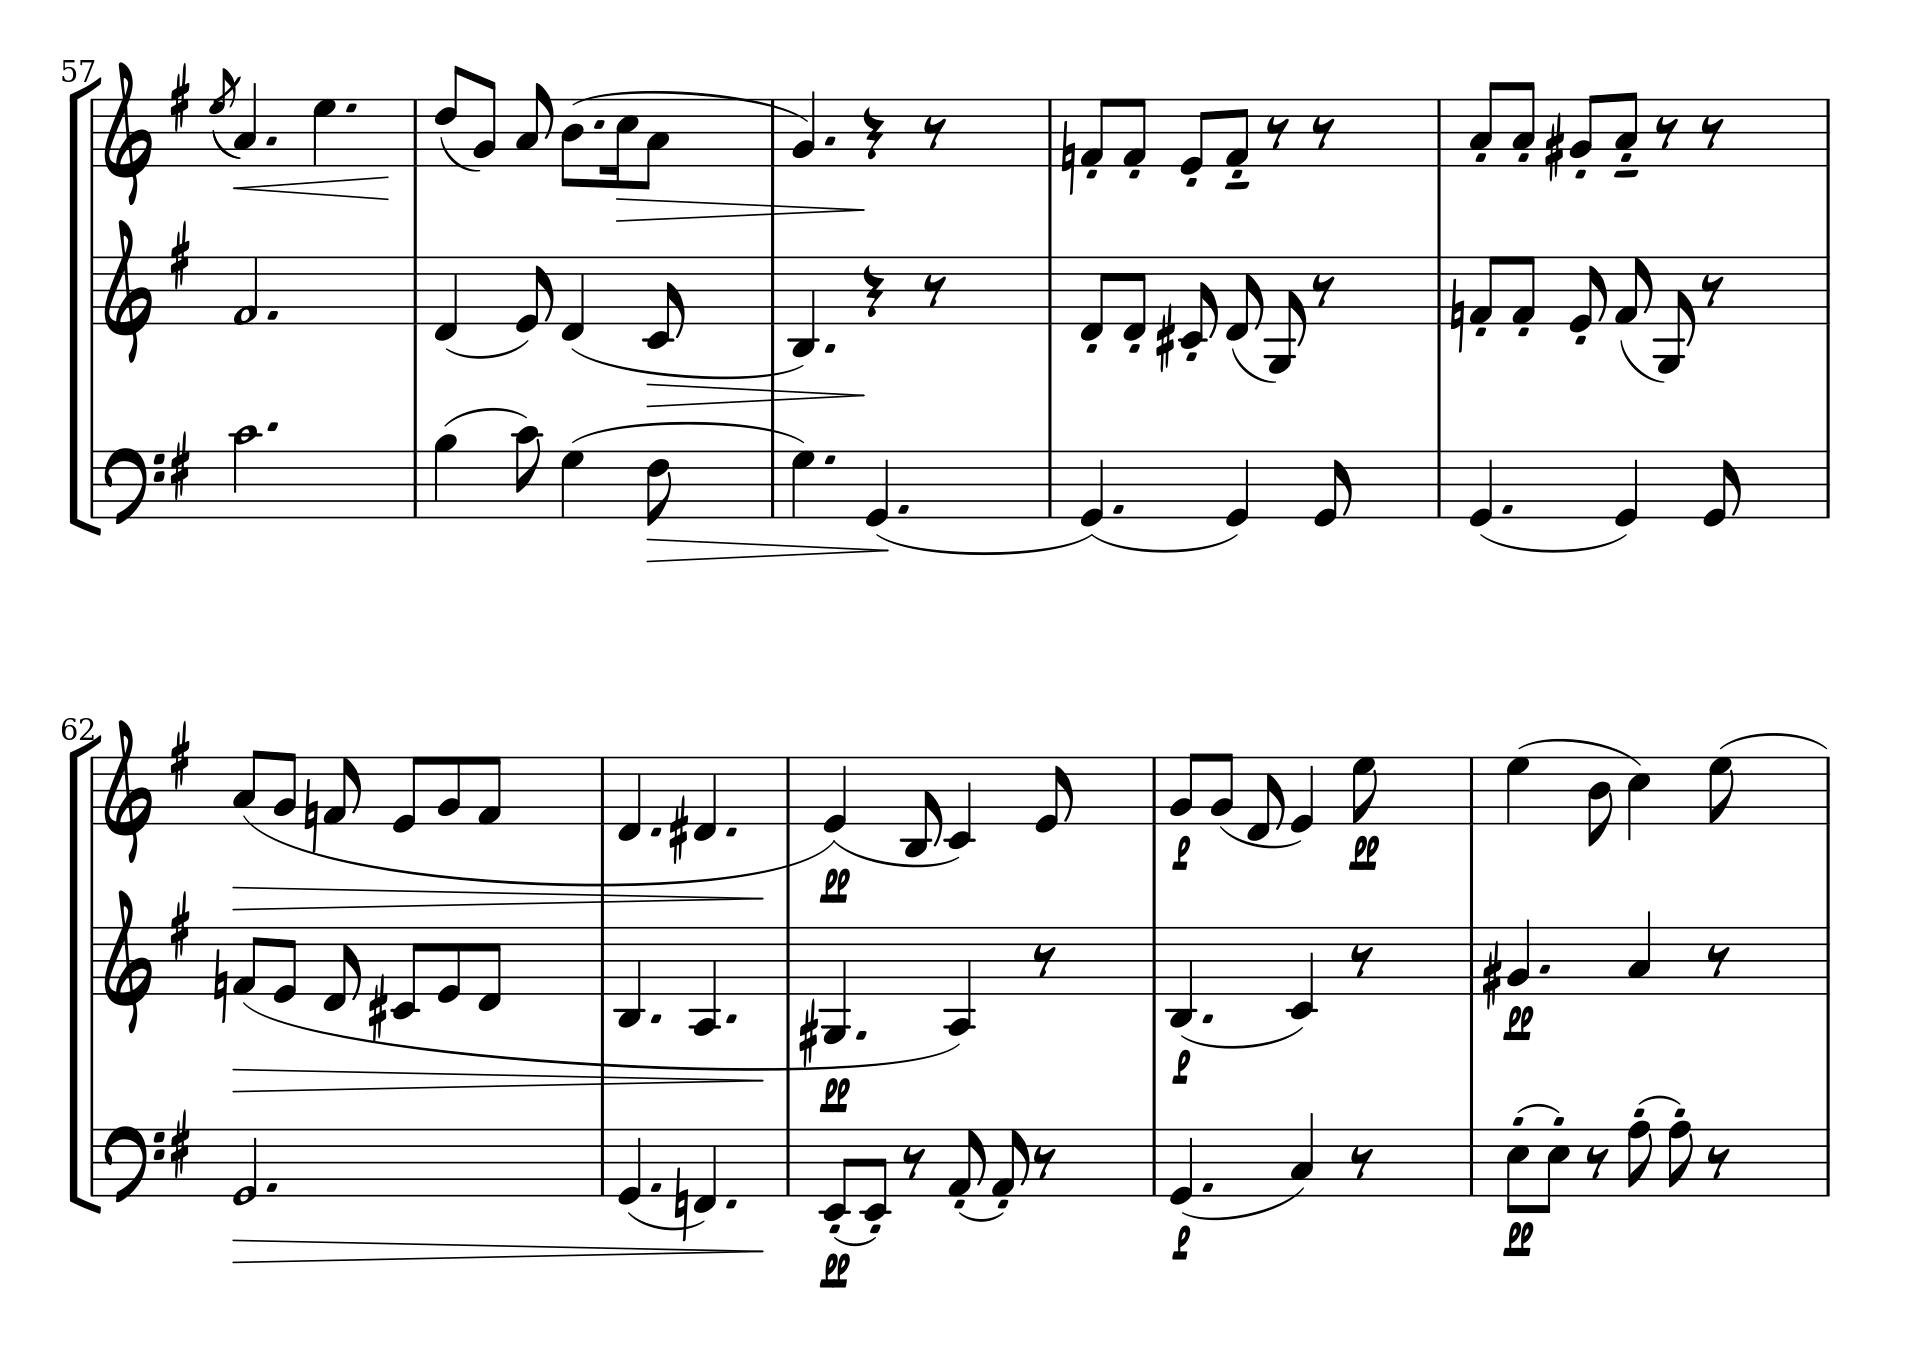16_5: (601, 98, 639, 190)
2: (78, 714, 96, 739)
2_0: (231, 1126, 259, 1207)
2_1: (232, 256, 260, 326)
2_10: (229, 423, 260, 522)
4_-1: (434, 254, 460, 342), (560, 254, 586, 342), (692, 754, 719, 842), (692, 1126, 719, 1214), (617, 752, 642, 842)
4_-2: (947, 754, 974, 851), (1288, 924, 1315, 1020)
4_-3: (614, 923, 644, 1030), (1167, 923, 1196, 1030), (789, 253, 819, 359)
4_-4: (688, 924, 722, 1036), (944, 924, 976, 1036)
4_-5: (820, 924, 851, 1043)
4_0: (822, 754, 850, 835), (1168, 1126, 1196, 1207), (863, 448, 891, 528), (1467, 448, 1495, 528), (1224, 448, 1251, 529), (1614, 448, 1640, 529), (617, 1126, 644, 1207), (1079, 448, 1105, 528), (1290, 754, 1315, 836)
4_2: (791, 90, 817, 169), (1507, 916, 1532, 996)
4_3: (1629, 908, 1654, 996), (234, 81, 259, 168), (1290, 1113, 1315, 1198)
4_5: (1626, 754, 1652, 842)
4_7: (1504, 754, 1530, 826), (559, 448, 585, 519), (789, 448, 816, 519), (312, 97, 337, 168)
4_9: (432, 432, 459, 520)
6: (60, 714, 78, 741)
8_-1: (322, 924, 363, 1013), (1224, 254, 1264, 342), (1246, 754, 1285, 841), (1077, 254, 1111, 342), (476, 924, 503, 1016), (1121, 254, 1148, 342)
8_-2: (642, 254, 686, 350), (1177, 254, 1218, 348), (819, 1127, 854, 1221), (389, 926, 425, 1018), (861, 1129, 889, 1221)
8_-3: (902, 755, 944, 858)
8_-5: (1265, 254, 1307, 378), (1655, 256, 1696, 376)
8_0: (514, 254, 554, 334), (1567, 256, 1606, 334), (1177, 97, 1210, 176), (392, 754, 423, 835), (437, 924, 463, 1004), (273, 926, 298, 1004)
8_1: (947, 1127, 988, 1199), (323, 755, 365, 826), (1614, 254, 1654, 326), (992, 1127, 1030, 1198), (1080, 96, 1111, 168), (1470, 253, 1501, 325), (234, 924, 265, 996), (1509, 254, 1537, 326), (1121, 96, 1148, 169), (1224, 96, 1249, 168), (478, 754, 503, 826)
8_10: (513, 423, 542, 520)
8_2: (1702, 450, 1742, 529), (1313, 450, 1352, 528), (1035, 755, 1073, 833), (472, 76, 497, 168), (1570, 93, 1601, 166), (1168, 751, 1199, 824), (1210, 751, 1235, 824), (437, 754, 462, 826), (273, 751, 297, 824)
8_3: (514, 79, 551, 168), (639, 98, 672, 191), (1468, 79, 1501, 168), (232, 748, 265, 824), (1511, 79, 1536, 168), (1612, 90, 1639, 166)
8_4: (1586, 755, 1614, 847), (560, 97, 585, 190)
8_5: (1539, 1127, 1571, 1212), (1504, 1127, 1530, 1214)
8_6: (434, 63, 464, 169), (647, 448, 672, 528)
8_7: (1708, 754, 1736, 826), (1351, 754, 1379, 824)
8_8: (1626, 1118, 1654, 1199), (1667, 1118, 1695, 1198)
Acciaccature: (209, 68, 240, 166)
Bracke: (68, 736, 106, 1208), (68, 75, 104, 533)
Crescendo_hairpin: (234, 173, 389, 201)
Diminuendo_hairpin: (229, 1237, 764, 1265), (229, 1068, 763, 1095), (234, 886, 764, 913), (614, 195, 864, 223), (647, 535, 885, 563), (645, 384, 860, 409)
Fclef: (101, 445, 165, 528), (104, 1123, 165, 1207)
Gclef: (101, 218, 154, 363), (103, 888, 154, 1032), (103, 60, 153, 206), (103, 719, 153, 863)
Natural: (212, 946, 229, 1024), (1449, 275, 1465, 353), (303, 776, 319, 852), (673, 1164, 689, 1240), (1061, 118, 1076, 195)
Rests4: (860, 104, 885, 162), (861, 262, 885, 319)
Rests8: (1348, 1143, 1376, 1179), (1348, 944, 1376, 977), (922, 115, 948, 150), (1264, 115, 1290, 150), (1310, 115, 1336, 150), (922, 272, 948, 307), (1699, 272, 1726, 307), (1705, 944, 1731, 979), (901, 1145, 927, 1180), (1705, 1143, 1731, 1179), (1032, 1143, 1057, 1180), (1699, 115, 1726, 148), (1030, 944, 1057, 977), (1654, 115, 1678, 150), (1311, 272, 1336, 307), (1584, 1145, 1609, 1179)
Sharp: (168, 218, 193, 290), (168, 889, 193, 961), (168, 720, 193, 791), (1480, 939, 1504, 1010), (168, 1110, 191, 1180), (169, 431, 191, 503), (1154, 304, 1176, 373), (667, 795, 689, 864), (169, 65, 191, 132), (367, 974, 389, 1041), (797, 999, 819, 1066), (1543, 115, 1564, 182)
Single_barline: (764, 257, 783, 323), (764, 450, 783, 516), (406, 256, 423, 323), (1041, 256, 1058, 323), (594, 757, 611, 824), (1041, 98, 1058, 165), (1462, 927, 1480, 994), (1818, 927, 1836, 994), (1462, 757, 1480, 822), (1432, 256, 1448, 323), (1820, 450, 1836, 517), (1432, 98, 1448, 165), (407, 98, 423, 165), (764, 98, 780, 165), (1820, 98, 1836, 165), (407, 450, 423, 516), (85, 451, 101, 517), (1146, 755, 1163, 822), (1820, 755, 1836, 822), (780, 927, 797, 994), (1146, 927, 1163, 994), (595, 1129, 611, 1195), (1146, 1129, 1163, 1195), (1820, 257, 1836, 322), (1432, 451, 1448, 516), (1462, 1129, 1479, 1193), (1820, 1129, 1836, 1193), (1042, 453, 1058, 514), (780, 1129, 795, 1196), (595, 927, 610, 994), (780, 757, 795, 822), (85, 1130, 100, 1193), (85, 98, 98, 166), (85, 257, 98, 323), (85, 927, 98, 994), (87, 755, 98, 823)
Slur: (572, 90, 804, 126), (569, 420, 811, 445), (877, 533, 1091, 556), (1185, 1186, 1304, 1221), (1518, 736, 1642, 769), (833, 839, 960, 867), (1480, 533, 1626, 556), (1094, 533, 1239, 553), (1185, 1027, 1304, 1048), (1618, 338, 1667, 384), (1720, 730, 1827, 750), (1218, 826, 1301, 848), (442, 406, 528, 426), (1232, 345, 1277, 384), (445, 339, 529, 360), (438, 137, 484, 170), (210, 126, 243, 162), (1515, 1101, 1561, 1115), (958, 1210, 1005, 1223), (1637, 1093, 1681, 1107), (833, 1235, 876, 1246)
dot: (1110, 500, 1127, 517), (342, 98, 360, 115), (822, 338, 838, 356), (265, 417, 281, 435), (1499, 500, 1515, 517), (1198, 1008, 1216, 1024), (723, 1010, 739, 1027), (1199, 1179, 1216, 1196), (723, 1196, 741, 1212), (648, 1010, 664, 1026), (895, 500, 910, 517), (1536, 960, 1554, 974), (822, 132, 838, 147), (822, 451, 836, 467), (725, 823, 739, 839), (854, 1024, 869, 1041), (265, 1179, 281, 1193), (647, 1179, 663, 1193), (592, 116, 607, 129), (265, 132, 278, 147), (265, 307, 279, 320), (650, 824, 661, 838)
p: (1170, 1046, 1195, 1088), (1168, 1223, 1193, 1262), (1170, 833, 1193, 873)
pp: (1501, 1002, 1536, 1041), (1348, 832, 1382, 872), (819, 864, 852, 902), (819, 1251, 852, 1289), (1501, 1218, 1534, 1257), (819, 1074, 851, 1111)
